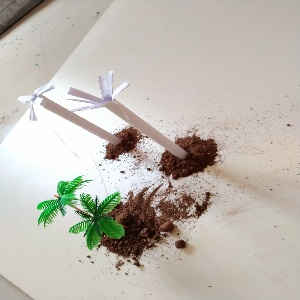plant: (35, 178, 129, 254)
weed: (65, 65, 194, 160), (12, 87, 121, 152)
